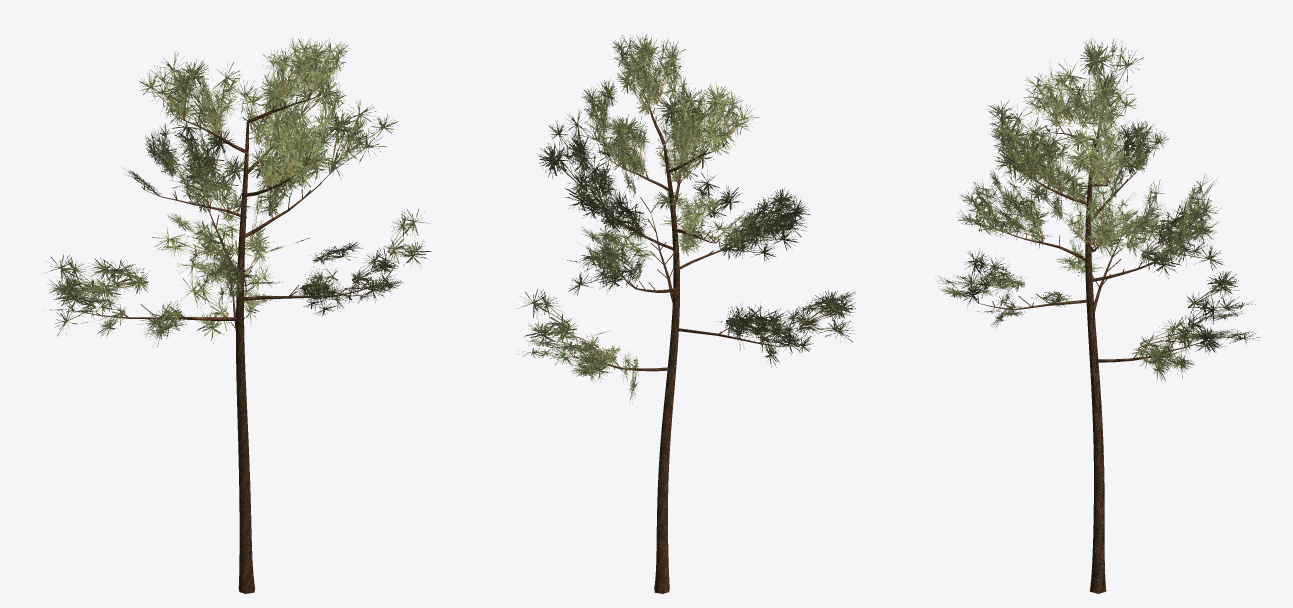
The model's file is tree_pine_v1_l1.glb.
3 renders of one model, left to right at view 1: azimuth 30°, elevation 25°; view 2: azimuth 150°, elevation 25°; view 3: azimuth 270°, elevation 25°, orthographic. The views are drawn at different scales.
Visible parts, largest first — view 1: tree_pine_v1_l1; view 2: tree_pine_v1_l1; view 3: tree_pine_v1_l1.
Part boxes in pixels (bbox=[...]): tree_pine_v1_l1: bbox=[44, 38, 431, 593]; tree_pine_v1_l1: bbox=[517, 32, 855, 593]; tree_pine_v1_l1: bbox=[937, 38, 1259, 593].
Bounding box in the file's own units: 9.34 × 14.02 × 8.41.
Materials: 2 (2 with a texture image).
